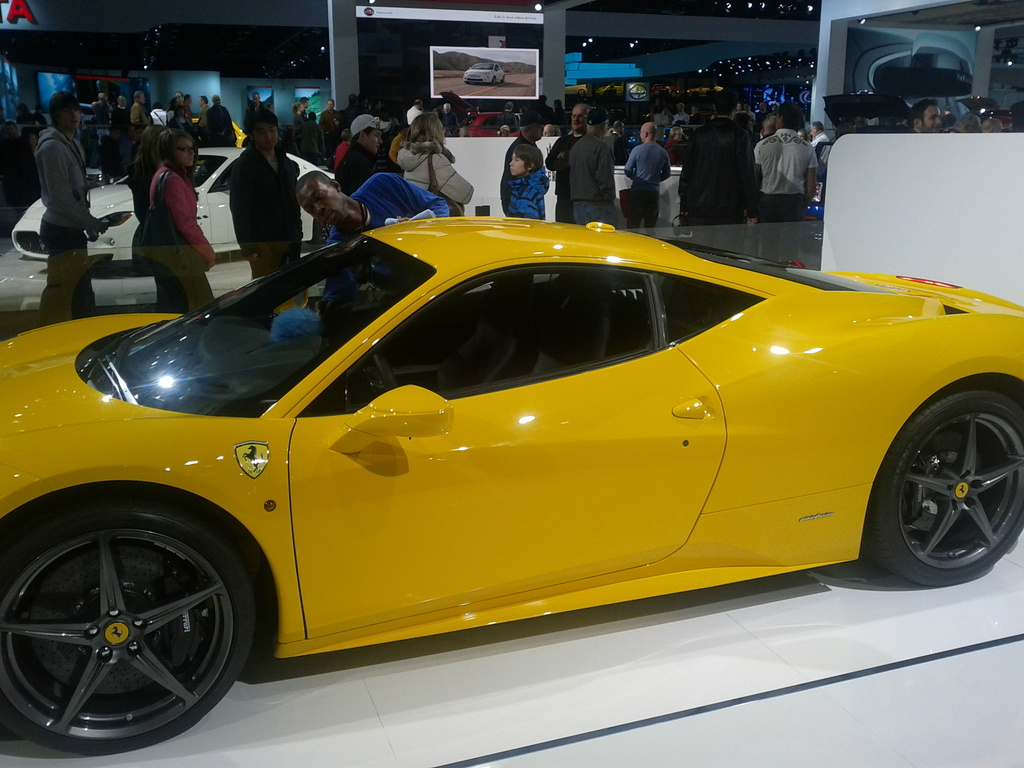Person: (0, 90, 1002, 312)
